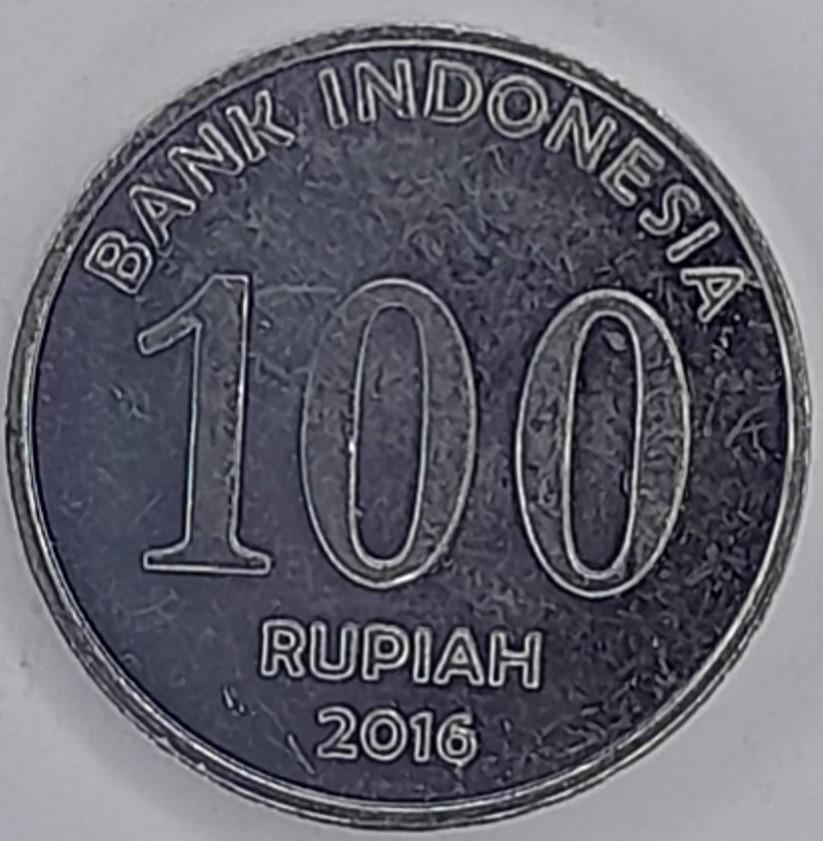coin_100_e2016: (0, 18, 817, 832)
